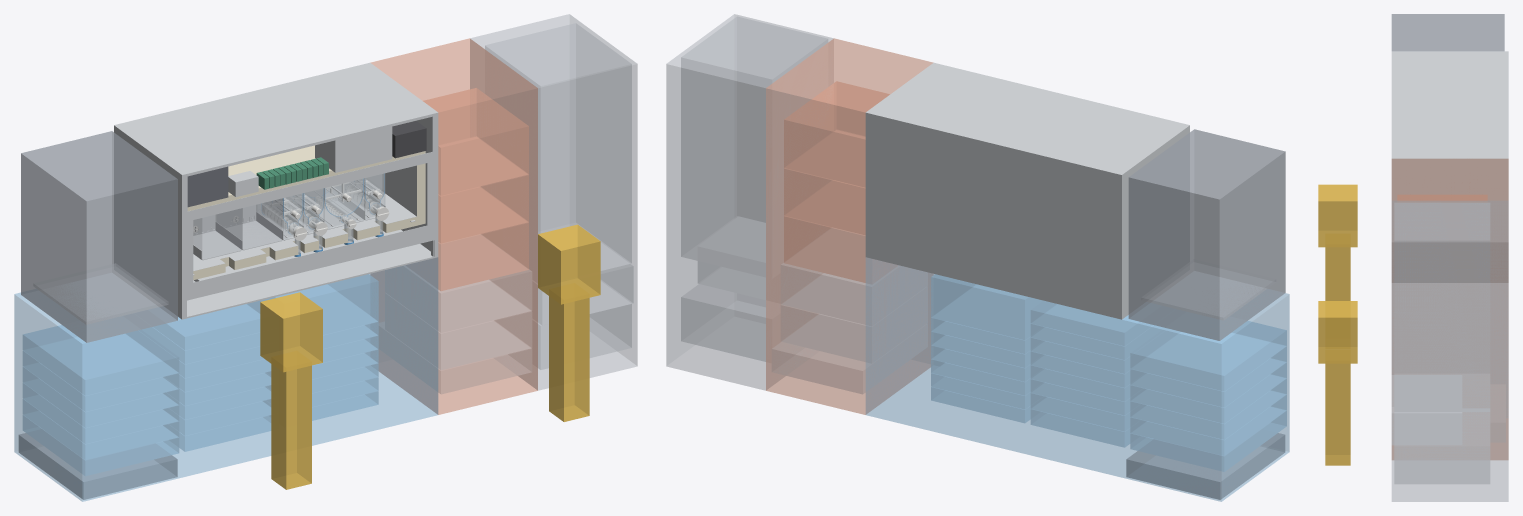
File: hat_v11.glb
3 renders of one model, left to right at view 1: azimuth 30°, elevation 25°; view 2: azimuth 150°, elevation 25°; view 3: azimuth 270°, elevation 25°, orthographic. The views are drawn at different scales.
Visible parts, largest first — view 1: B_KABIN, TOPPING_MODUL__sac, D_KABIN, E_KABIN, PRESS, E_SARJOR, FIRIN_3, CEK_K1_hamur_6, B_SOGUTMA, ROBOT_2, ROBOT_1, TOPPING_MODUL__pu (+40 smaller); view 2: B_KABIN, TOPPING_MODUL__sac, D_KABIN, E_KABIN, PRESS, E_SARJOR, FIRIN_3, CEK_K1_hamur_6, B_SOGUTMA, E_MEK, PRESS_PLAKA, CEK_K3_icecek_1 (+25 smaller); view 3: E_KABIN, TOPPING_MODUL__sac, E_SARJOR, D_KABIN, E_MEK, PRESS, ROBOT_2, ROBOT_1_KOL, ROBOT_2_KOL, E_AGZ, ROBOT_1, FIRIN_3.
Part boxes in pixels (bbox=[...]): B_KABIN: bbox=[14, 257, 438, 501]; TOPPING_MODUL__sac: bbox=[114, 62, 438, 319]; D_KABIN: bbox=[370, 38, 537, 414]; E_KABIN: bbox=[470, 14, 637, 390]; PRESS: bbox=[21, 131, 177, 342]; E_SARJOR: bbox=[485, 23, 631, 270]; FIRIN_3: bbox=[423, 88, 528, 195]; CEK_K1_hamur_6: bbox=[23, 325, 178, 395]; B_SOGUTMA: bbox=[18, 429, 177, 499]; ROBOT_2: bbox=[549, 283, 589, 421]; ROBOT_1: bbox=[271, 351, 311, 489]; TOPPING_MODUL__pu: bbox=[187, 145, 425, 280]; B_KABIN: bbox=[865, 257, 1289, 501]; TOPPING_MODUL__sac: bbox=[865, 62, 1189, 319]; D_KABIN: bbox=[766, 38, 933, 414]; E_KABIN: bbox=[666, 14, 833, 390]; PRESS: bbox=[1128, 129, 1285, 340]; E_SARJOR: bbox=[681, 16, 827, 277]; FIRIN_3: bbox=[784, 81, 889, 187]; CEK_K1_hamur_6: bbox=[1130, 321, 1286, 391]; B_SOGUTMA: bbox=[1126, 429, 1285, 499]; E_MEK: bbox=[681, 284, 765, 361]; PRESS_PLAKA: bbox=[1141, 259, 1275, 320]; CEK_K3_icecek_1: bbox=[931, 274, 1042, 339]; E_KABIN: bbox=[1391, 200, 1508, 501]; TOPPING_MODUL__sac: bbox=[1391, 51, 1508, 282]; E_SARJOR: bbox=[1394, 203, 1489, 411]; D_KABIN: bbox=[1392, 158, 1508, 459]; E_MEK: bbox=[1394, 412, 1489, 483]; PRESS: bbox=[1391, 14, 1504, 51]; ROBOT_2: bbox=[1325, 363, 1350, 465]; ROBOT_1_KOL: bbox=[1318, 184, 1357, 247]; ROBOT_2_KOL: bbox=[1318, 301, 1357, 363]; E_AGZ: bbox=[1392, 375, 1461, 444]; ROBOT_1: bbox=[1325, 234, 1350, 300]; FIRIN_3: bbox=[1397, 195, 1487, 200].
Bounding box in the file's own units: 3.9 × 2.03 × 1.35.
